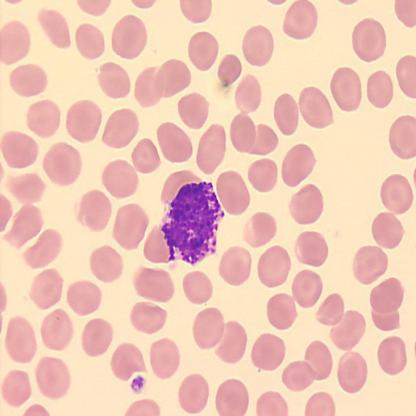Basophil: (158, 178, 226, 268)
